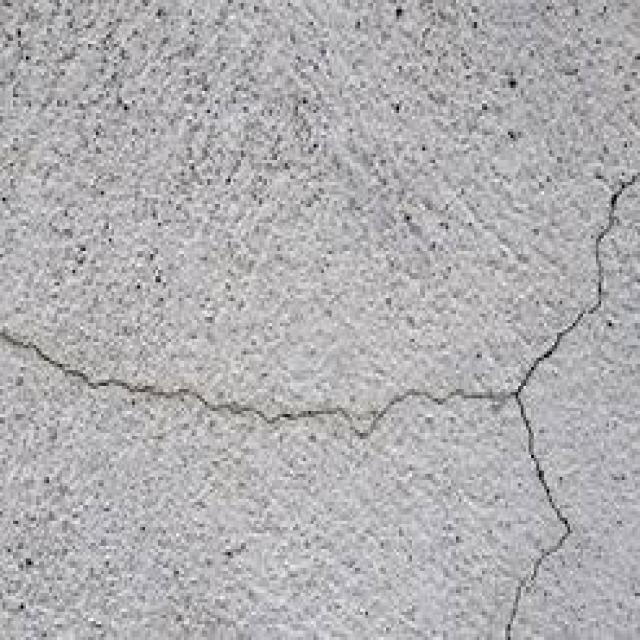Crack: (0, 323, 510, 426), (516, 163, 638, 386), (498, 389, 570, 637)
